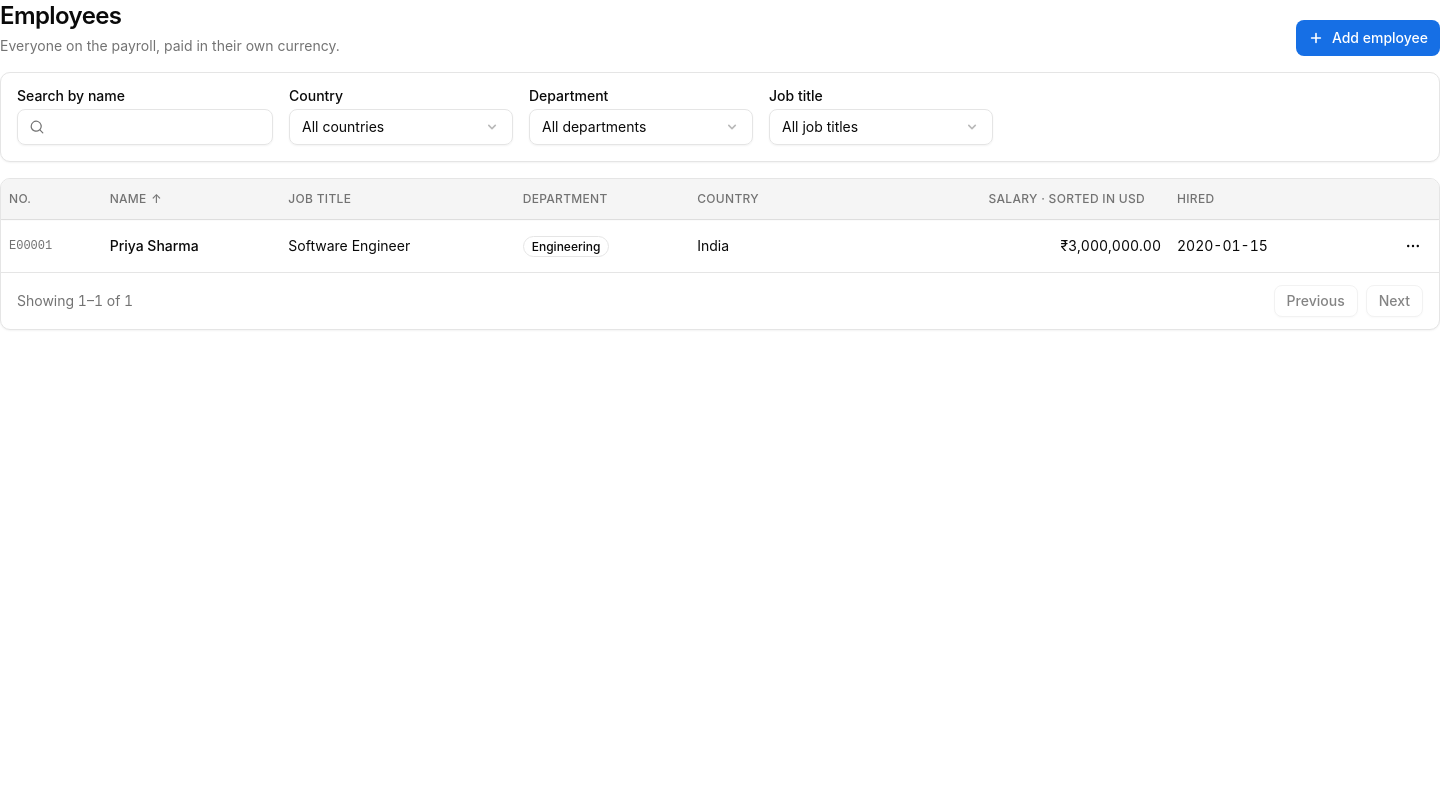
Test case: EmployeesPage › edits an employee from their row and confirms it
Press Enter in the button named "More actions for Priya Sharma", box [1395, 228, 1431, 264]
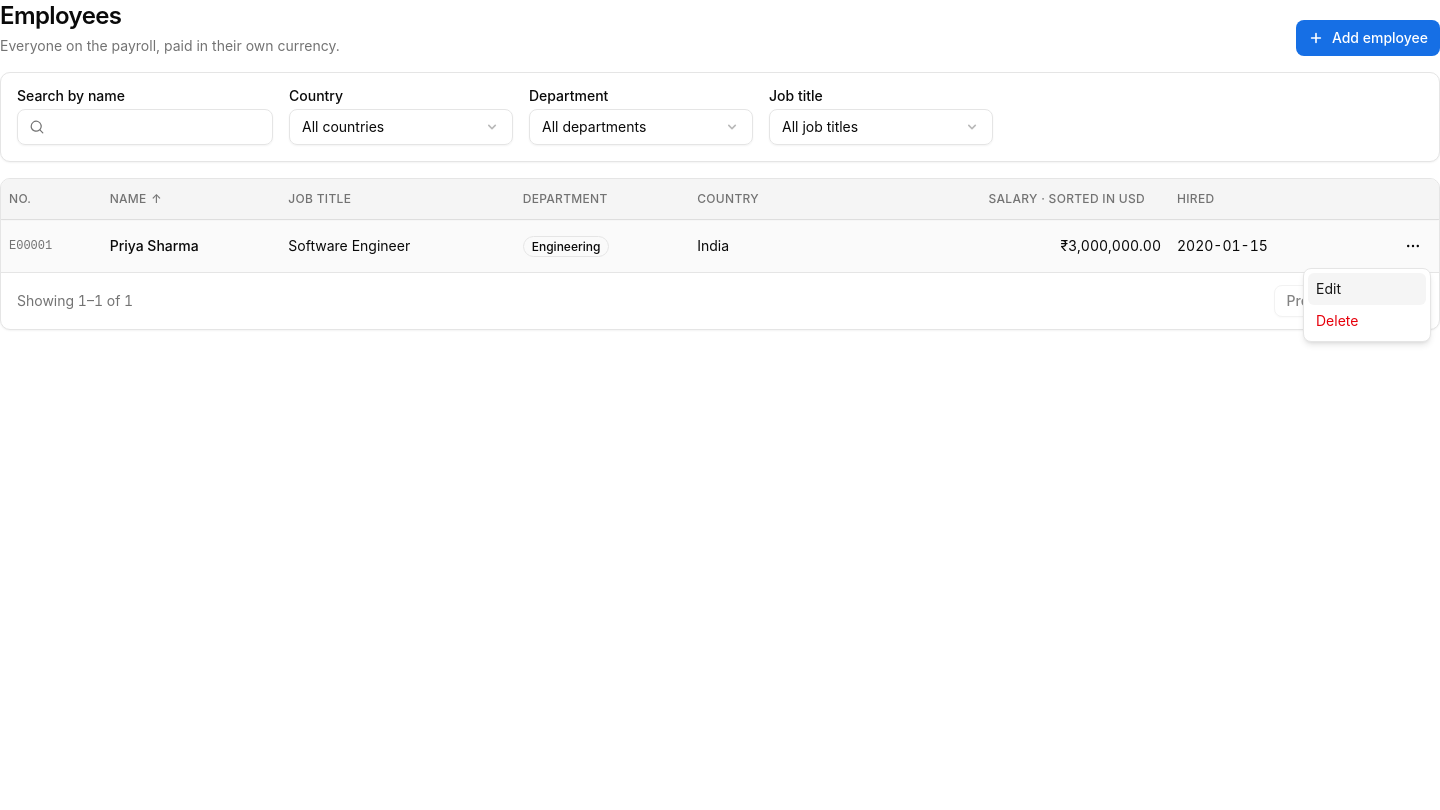
Click the menu item "Edit".
click(1367, 289)  # box [1308, 273, 1426, 305]
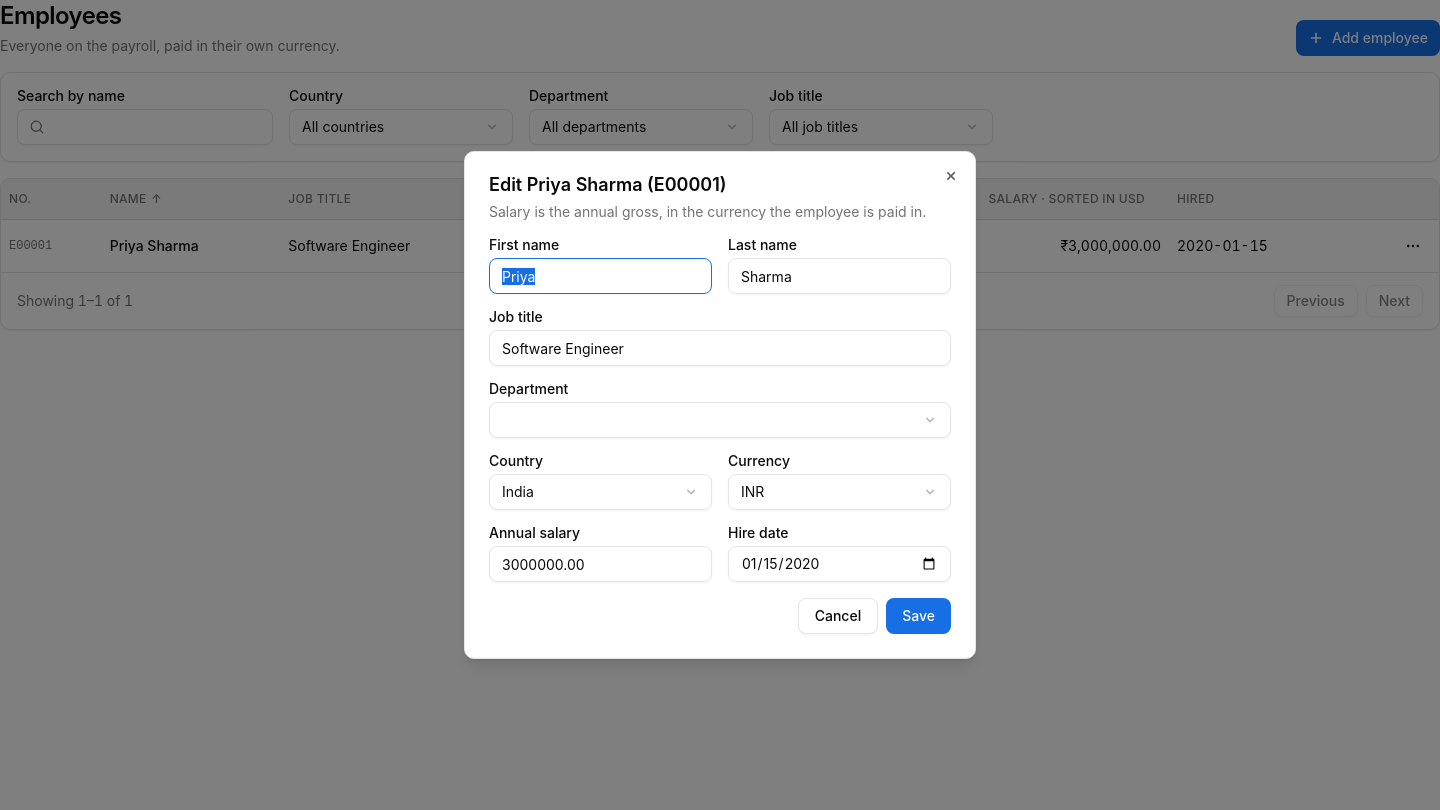
Replace the text in the field labelled "Job title" with "Staff Engineer" at (720,348), box [489, 330, 951, 366]
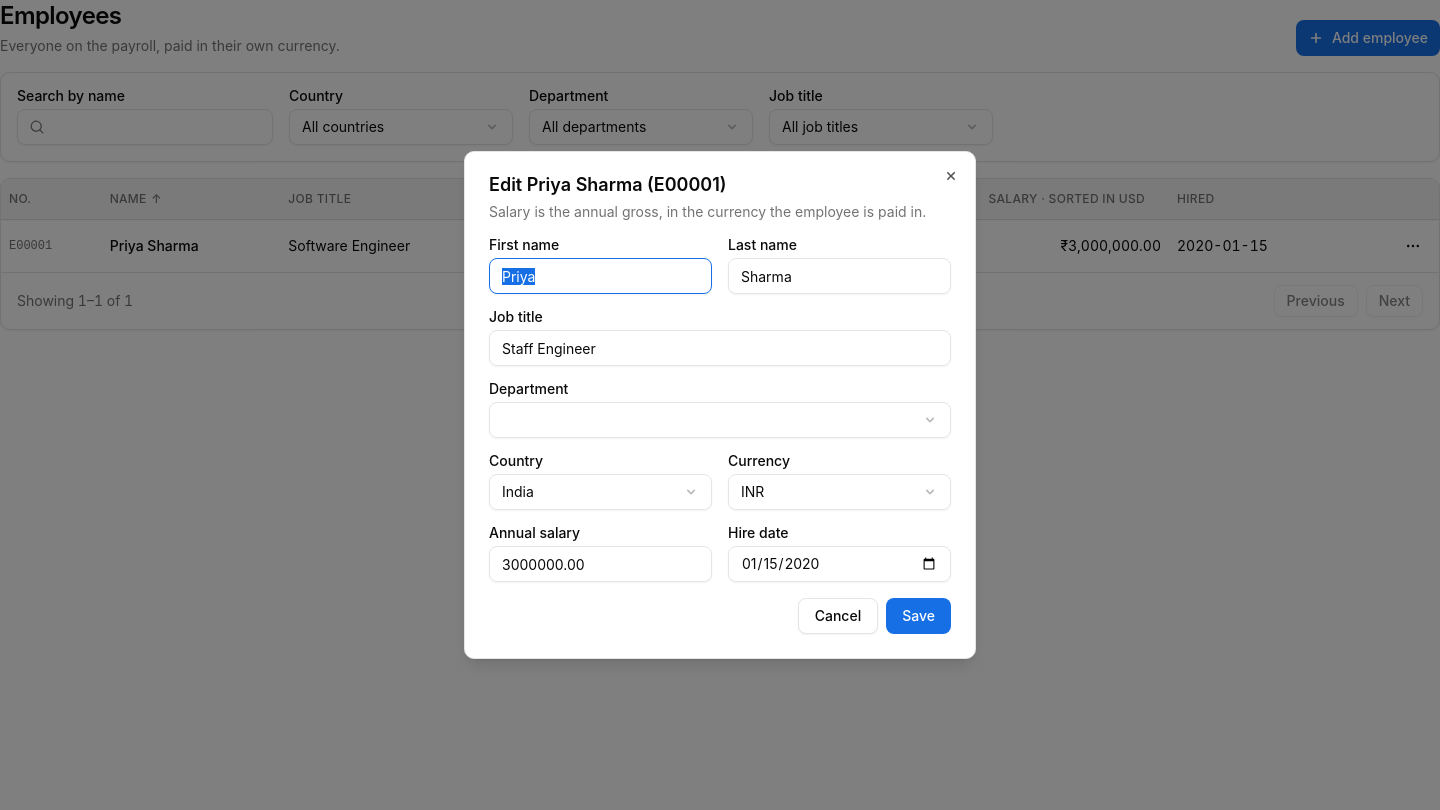
Click the button "Save".
click(919, 616)  # box [886, 598, 951, 634]
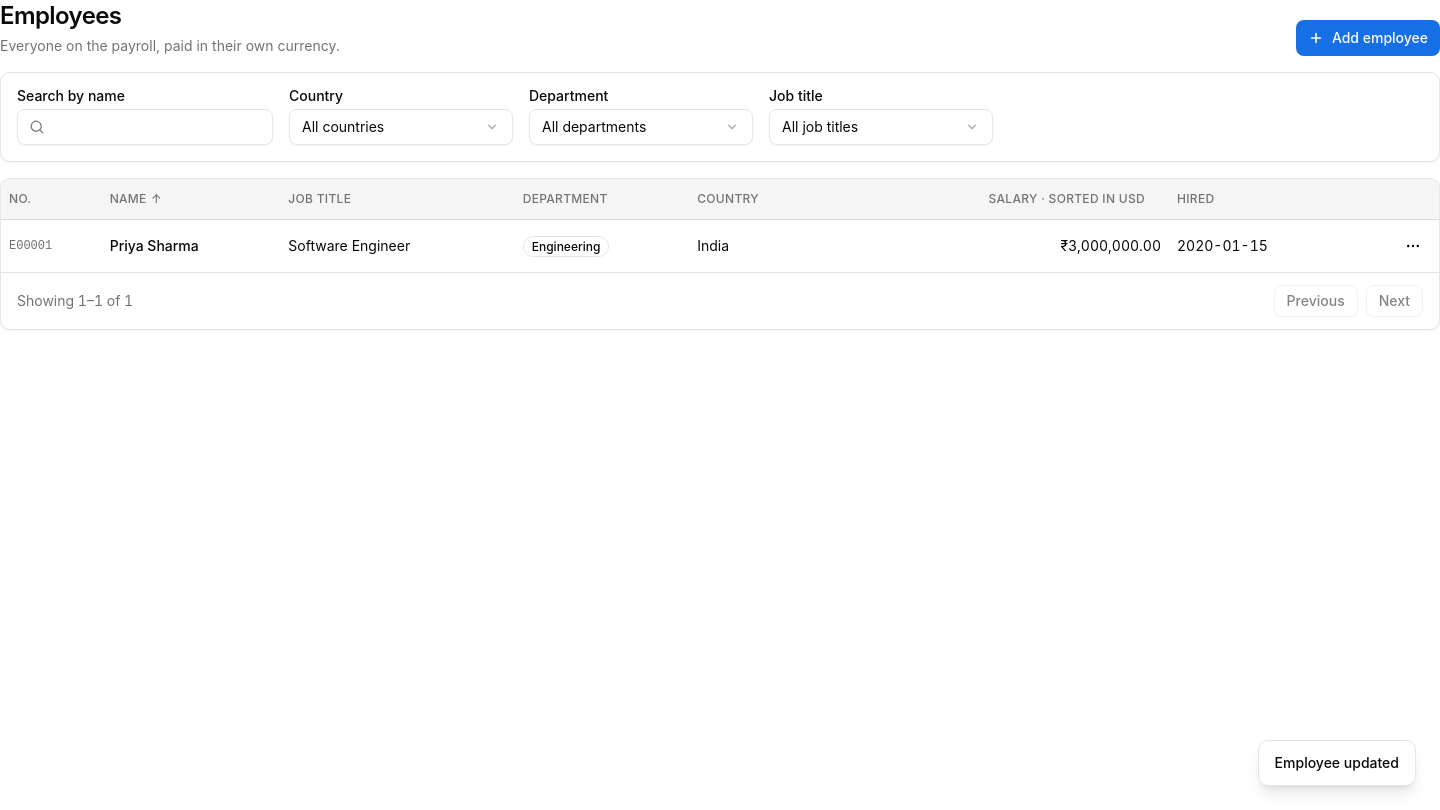
Now the text "Employee updated" is shown, box [1258, 740, 1416, 786]
